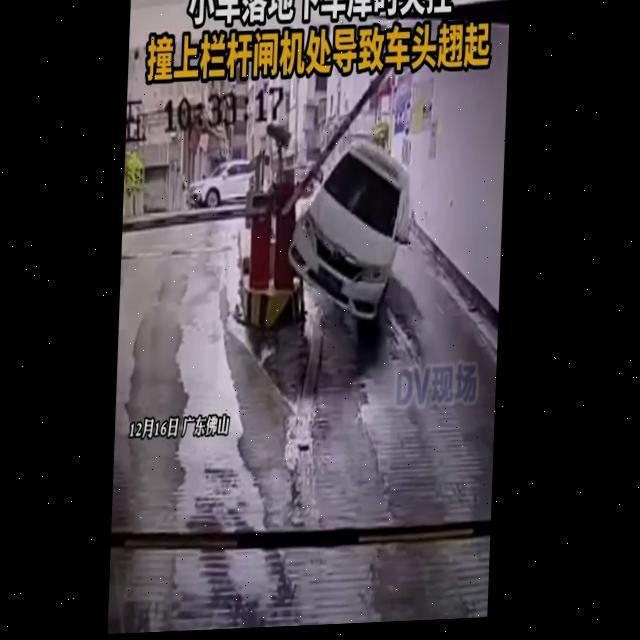single accident: (256, 136, 420, 343)
